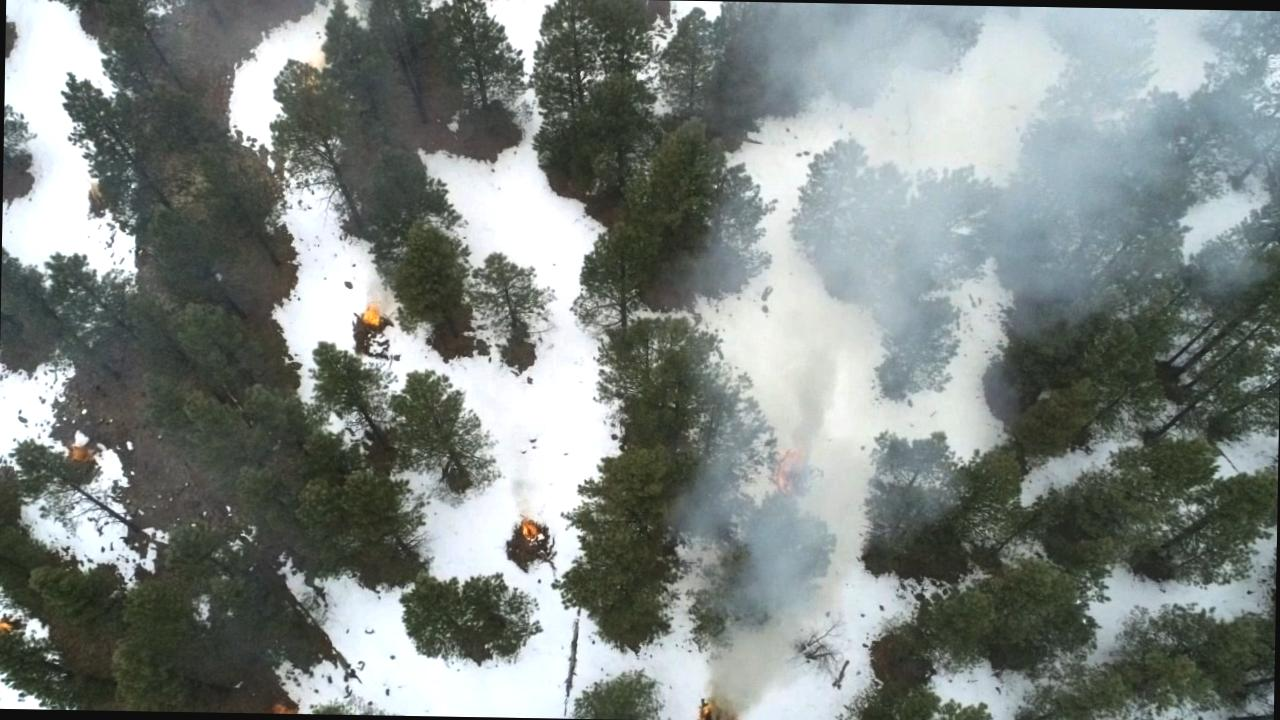fire: (769, 434, 818, 501), (516, 505, 546, 540), (358, 300, 387, 325)
smoke: (669, 0, 1280, 278), (671, 272, 1110, 554), (708, 552, 812, 647)
